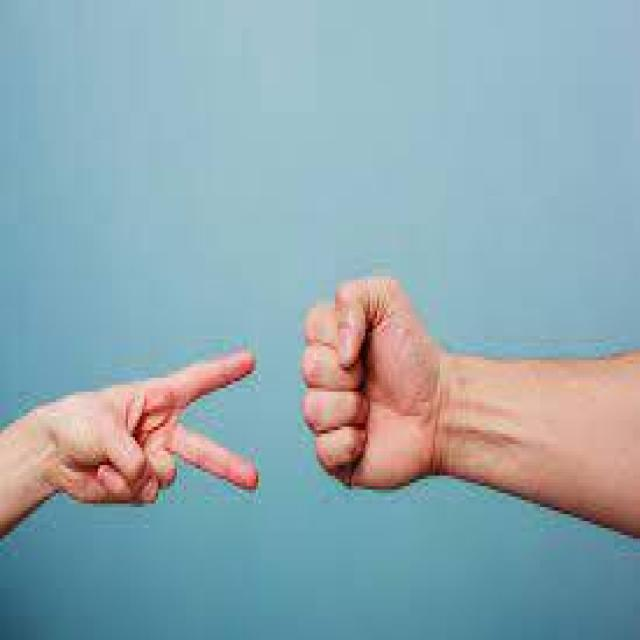rock: (297, 264, 521, 554)
scirssors: (23, 283, 280, 579)
